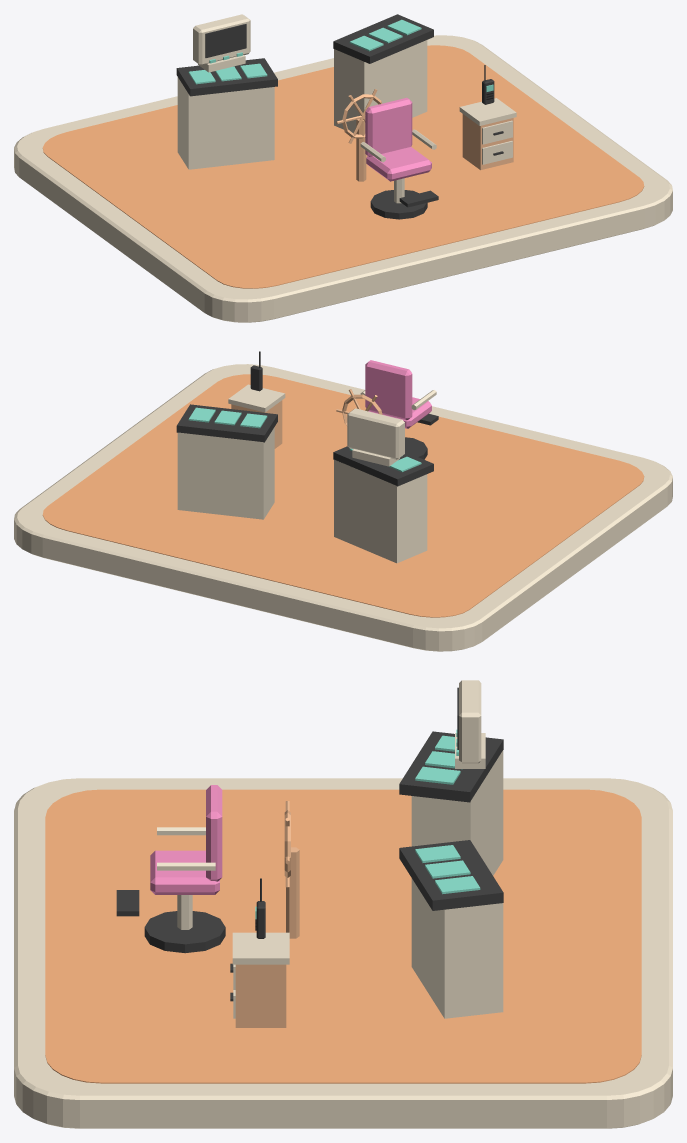
3 views of the same model, one above another, from view 1: azimuth 30°, elevation 25°; view 2: azimuth 150°, elevation 25°; view 3: azimuth 270°, elevation 25° (orthographic). The views are drawn at different scales.
Parts seen in each view (by area): view 1: COM-02 Floor Surface, COM-01 Rounded Base Direct, Console, Console.001, Back, Panel.001, Panel, Seat, Housing, Body, Base, Readout.006 (+4 smaller); view 2: COM-02 Floor Surface, COM-01 Rounded Base Direct, Console.001, Console, Back, Housing, Panel.001, Panel, Top, Body; view 3: COM-02 Floor Surface, COM-01 Rounded Base Direct, Console.001, Console, Panel.001, Body, Panel, Base, Seat, Housing, Top, Back (+1 smaller).
Boxes of the visible parts, x1,y1,x2,y2 form: COM-02 Floor Surface: (42, 45, 644, 288); COM-01 Rounded Base Direct: (14, 35, 672, 322); Console: (177, 77, 274, 169); Console.001: (334, 40, 427, 132); Back: (365, 97, 412, 156); Panel.001: (333, 14, 433, 63); Panel: (176, 58, 277, 96); Seat: (366, 147, 431, 181); Housing: (193, 14, 250, 65); Body: (462, 114, 513, 170); Base: (370, 190, 427, 219); Readout.006: (205, 24, 246, 57); COM-02 Floor Surface: (42, 374, 644, 617); COM-01 Rounded Base Direct: (14, 364, 672, 651); Console.001: (177, 427, 274, 519); Console: (334, 459, 427, 563); Back: (365, 360, 412, 420); Housing: (347, 408, 404, 459); Panel.001: (176, 404, 277, 442); Panel: (333, 446, 433, 486); Top: (228, 384, 285, 412); Body: (231, 400, 282, 448); COM-02 Floor Surface: (45, 789, 641, 1083); COM-01 Rounded Base Direct: (14, 778, 672, 1128); Console.001: (411, 878, 503, 1018); Console: (411, 750, 503, 875); Panel.001: (399, 840, 503, 910); Body: (235, 964, 286, 1027); Panel: (399, 731, 503, 802); Base: (144, 911, 225, 953); Seat: (150, 850, 219, 894); Housing: (459, 680, 481, 763); Top: (232, 932, 289, 964); Back: (206, 785, 222, 881).
Bounding box in the file's own units: 6 × 1.92 × 5.2.
1 material, 1 textured.
